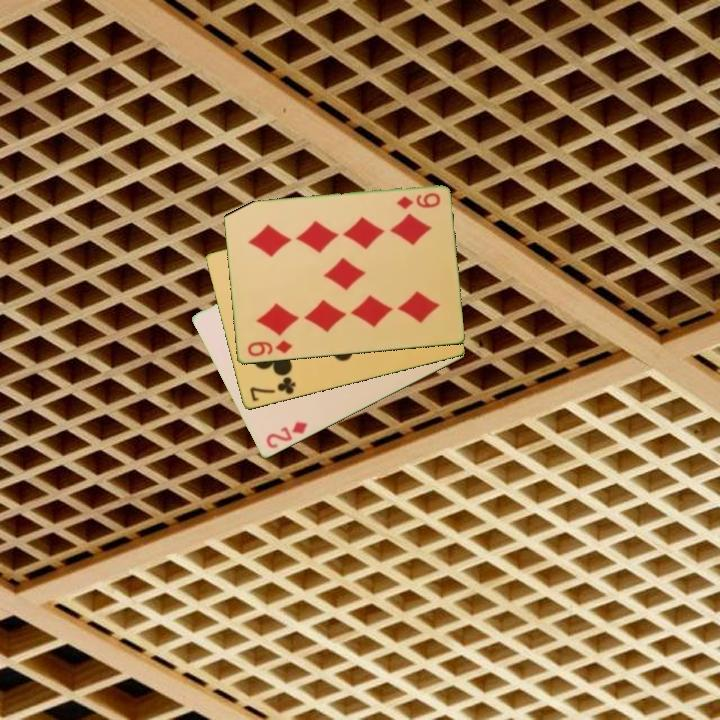2d: (262, 418, 311, 452)
7c: (246, 373, 299, 405)
9d: (244, 337, 295, 360), (393, 190, 443, 212)
